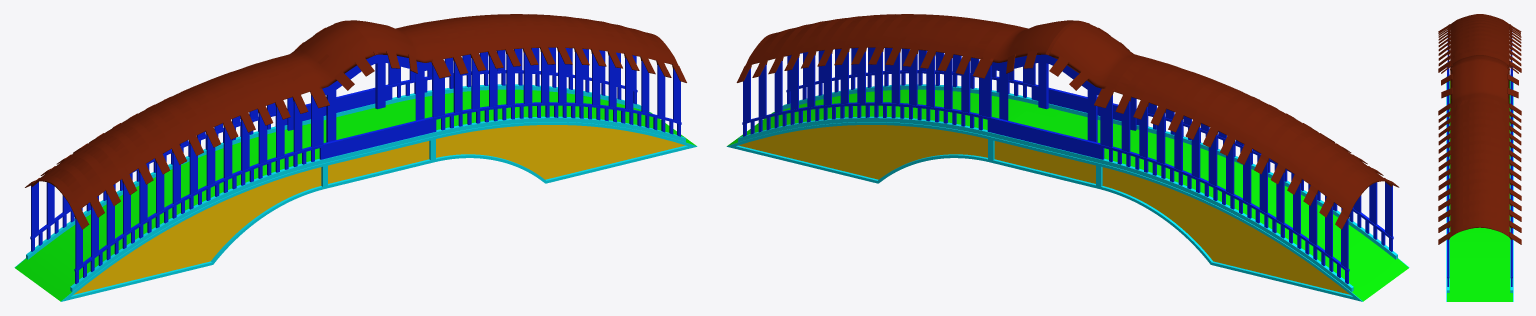
File: Bridge.FBX
3 renders of one model, left to right at view 1: azimuth 30°, elevation 25°; view 2: azimuth 150°, elevation 25°; view 3: azimuth 270°, elevation 25°, orthographic. The views are drawn at different scales.
Visible parts, largest first — view 1: Roof, Bridge Pillars, Bridge_Surface, Walkway, Bridge Base; view 2: Roof, Bridge Pillars, Bridge_Surface, Walkway, Bridge Base; view 3: Roof, Walkway, Bridge Pillars, Bridge Base.
Boxes of the visible parts, <box> form: Roof: <box>25,14,686,229</box>; Bridge Pillars: <box>30,47,681,284</box>; Bridge_Surface: <box>73,125,685,294</box>; Walkway: <box>15,89,696,301</box>; Bridge Base: <box>14,84,697,301</box>; Roof: <box>736,14,1399,229</box>; Bridge Pillars: <box>742,47,1393,284</box>; Bridge_Surface: <box>738,125,1350,294</box>; Walkway: <box>727,89,1408,301</box>; Bridge Base: <box>726,84,1409,301</box>; Roof: <box>1438,14,1521,244</box>; Walkway: <box>1447,81,1512,301</box>; Bridge Pillars: <box>1447,32,1512,286</box>; Bridge Base: <box>1446,74,1513,301</box>.
Size of what is drawn, in the model's own units: 4818 by 1313 by 759.
